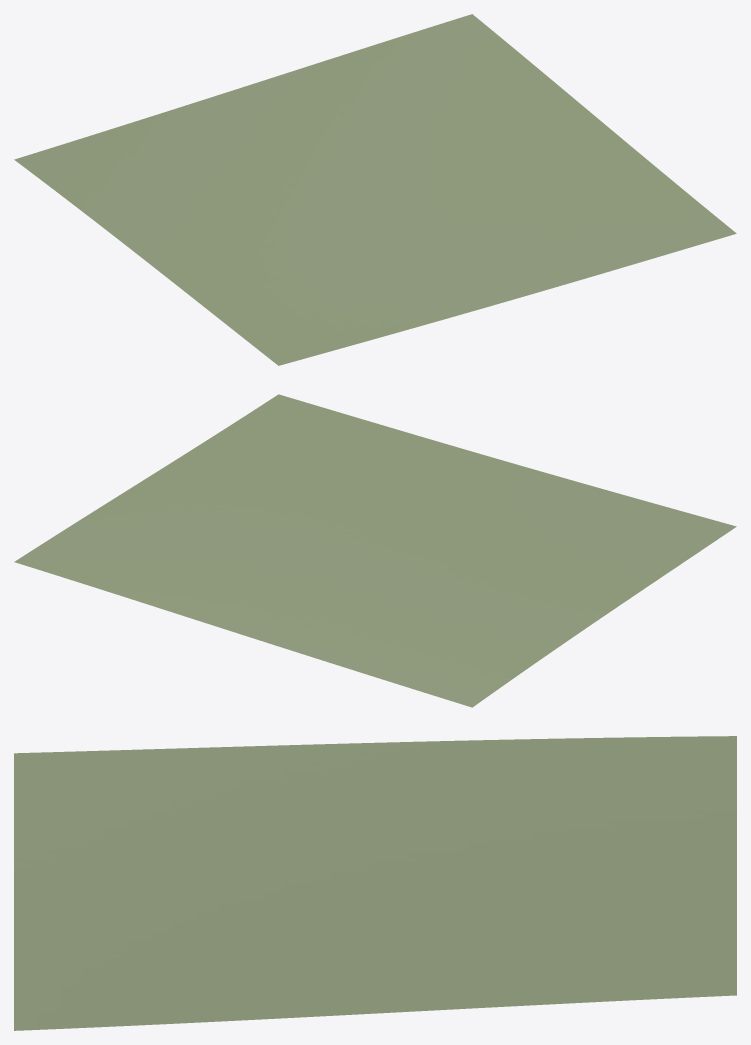
File: expanse-12-9.glb
3 renders of one model, top to bottom at view 1: azimuth 30°, elevation 25°; view 2: azimuth 150°, elevation 25°; view 3: azimuth 270°, elevation 25°, orthographic. The views are drawn at different scales.
Parts seen in each view (by area): view 1: expanse-12-9; view 2: expanse-12-9; view 3: expanse-12-9.
Part boxes in pixels (x1=…): expanse-12-9: x1=14, y1=14, x2=736, y2=365; expanse-12-9: x1=14, y1=394, x2=736, y2=707; expanse-12-9: x1=14, y1=736, x2=736, y2=1030.
Size of the model in its own units: 256 by 24.74 by 256.
